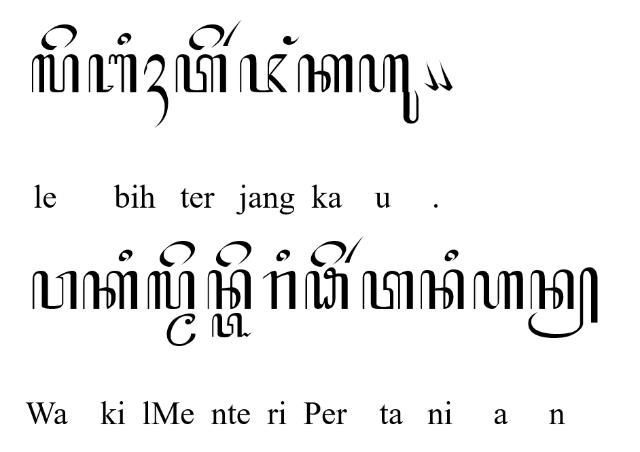-n: (528, 266, 598, 340)
P: (305, 266, 349, 310)
_h1: (144, 54, 168, 128)
_m: (166, 312, 196, 346)
_r1: (222, 18, 242, 46), (344, 236, 364, 264)
_t: (212, 312, 252, 337)
b: (89, 53, 138, 93)
e: (309, 240, 346, 268), (41, 23, 77, 51), (216, 240, 252, 268), (188, 24, 225, 50), (159, 241, 195, 267)
h: (472, 270, 524, 310)
hu: (358, 54, 419, 124)
i: (276, 248, 290, 262), (444, 248, 458, 262), (118, 249, 134, 261), (118, 33, 132, 45)
j: (238, 53, 288, 93)
k: (297, 54, 355, 94), (82, 271, 138, 310)
kom: (424, 59, 438, 91), (438, 59, 452, 91)
l: (147, 270, 196, 310), (31, 53, 79, 93)
n: (420, 268, 464, 310), (207, 270, 251, 310)
ng: (284, 35, 300, 45)
r: (262, 270, 296, 310)
t: (362, 271, 414, 311), (175, 54, 227, 92)
w: (32, 270, 76, 310)
